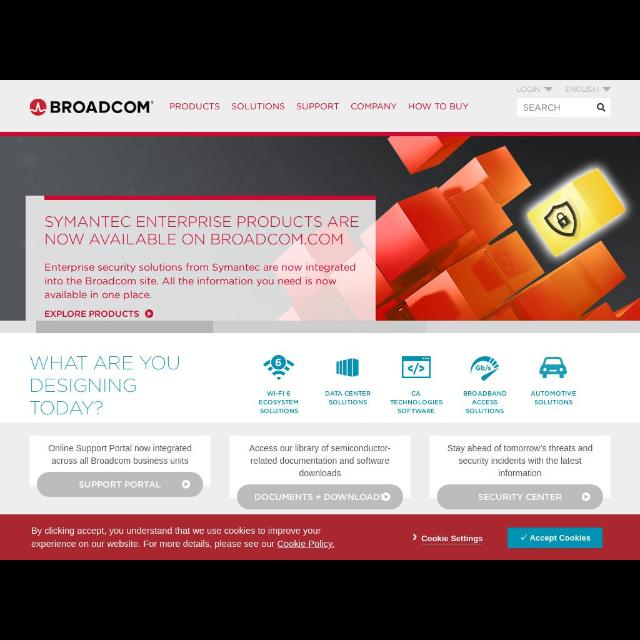backgroundimage: (2, 133, 638, 319)
icon: (598, 104, 606, 112), (146, 310, 152, 318), (546, 86, 552, 92), (604, 86, 610, 92)
iframe: (2, 515, 640, 557)
image: (31, 98, 152, 116), (473, 356, 501, 382), (264, 356, 294, 380), (402, 356, 432, 380), (540, 357, 568, 379), (333, 357, 359, 377)
input: (518, 98, 610, 116)
spinner: (566, 86, 610, 94), (518, 85, 554, 93)
text: (46, 264, 357, 300), (44, 215, 358, 247), (30, 356, 180, 414), (448, 446, 592, 478), (250, 446, 392, 476), (48, 444, 192, 464), (390, 391, 442, 413), (259, 389, 299, 415), (464, 391, 508, 413), (46, 310, 140, 318), (531, 390, 577, 406), (326, 392, 370, 404), (409, 103, 469, 111), (233, 102, 285, 110), (170, 102, 220, 110), (352, 104, 396, 110), (298, 103, 338, 109), (524, 104, 560, 110), (566, 86, 598, 92), (518, 86, 540, 92)
textbutton: (440, 484, 602, 510), (239, 486, 401, 510), (38, 474, 202, 496)
toolbar: (1, 88, 638, 130)
